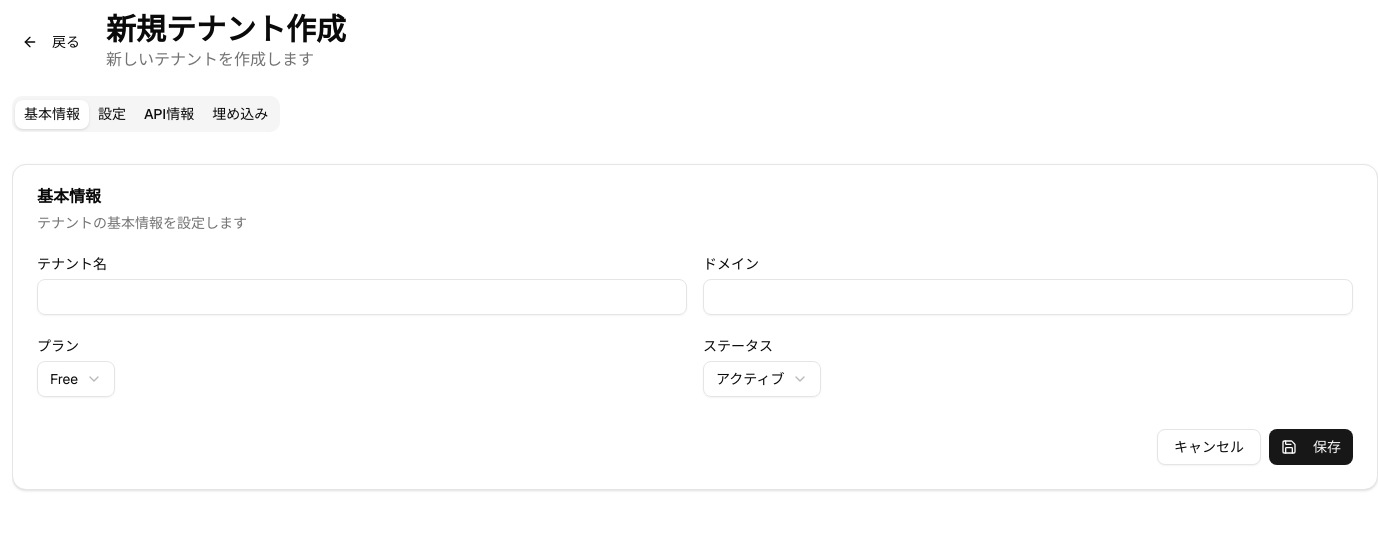
Test: TenantForm › 作成モード › バリデーションエラー - ドメインが短すぎる
This screenshot has width=1378, height=536.
# テナント名を入力
In the field labelled "テナント名": (362, 297) x1=37 y1=279 x2=687 y2=315, type "テストテナント"
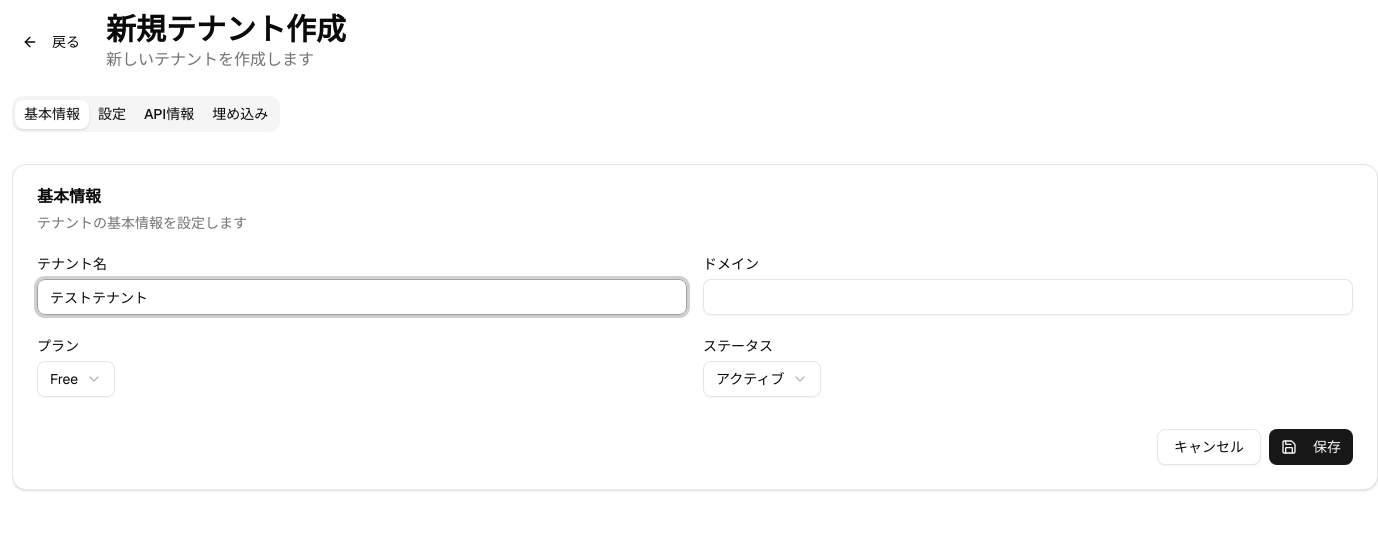
# ドメインに2文字を入力
In the field labelled "ドメイン": (1028, 297) x1=703 y1=279 x2=1353 y2=315, type "ab"
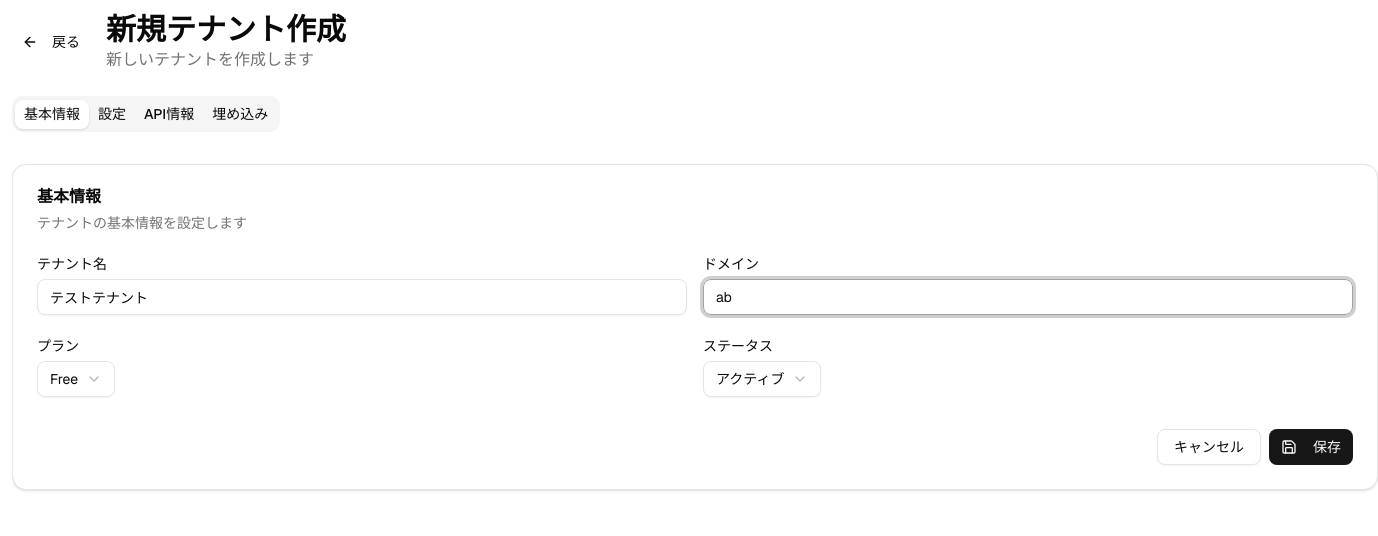
# 保存ボタンをクリック
Click the button "保存": (1311, 447) x1=1269 y1=429 x2=1353 y2=465
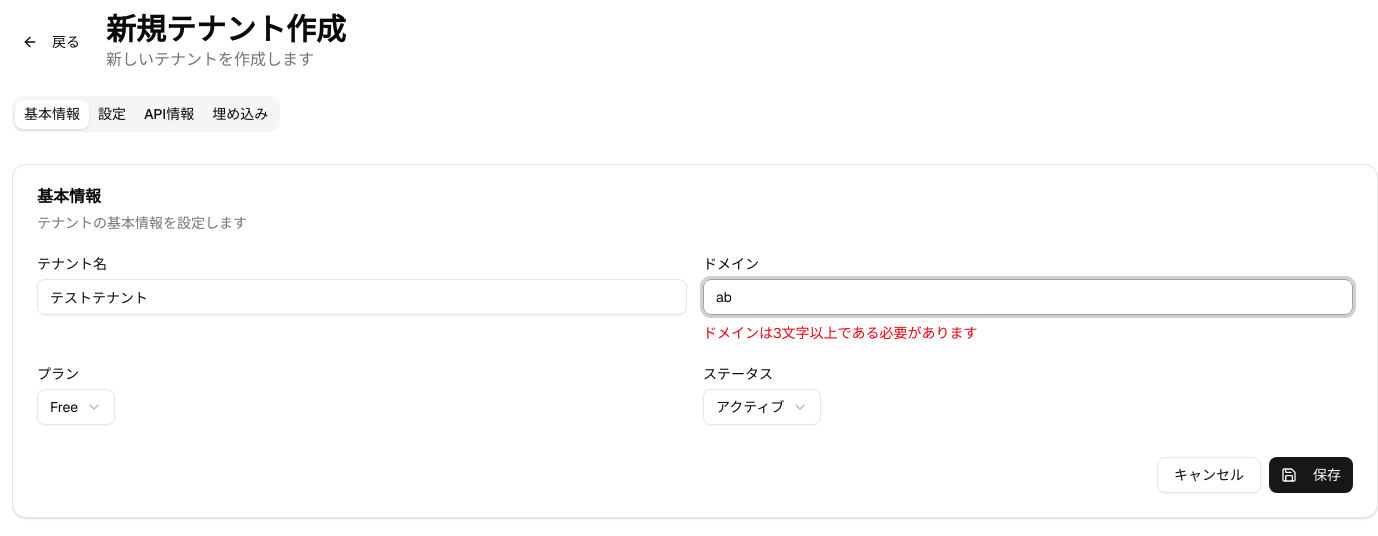
Result: the text "ドメインは3文字以上である必要があります" is shown at x1=703 y1=324 x2=978 y2=342
